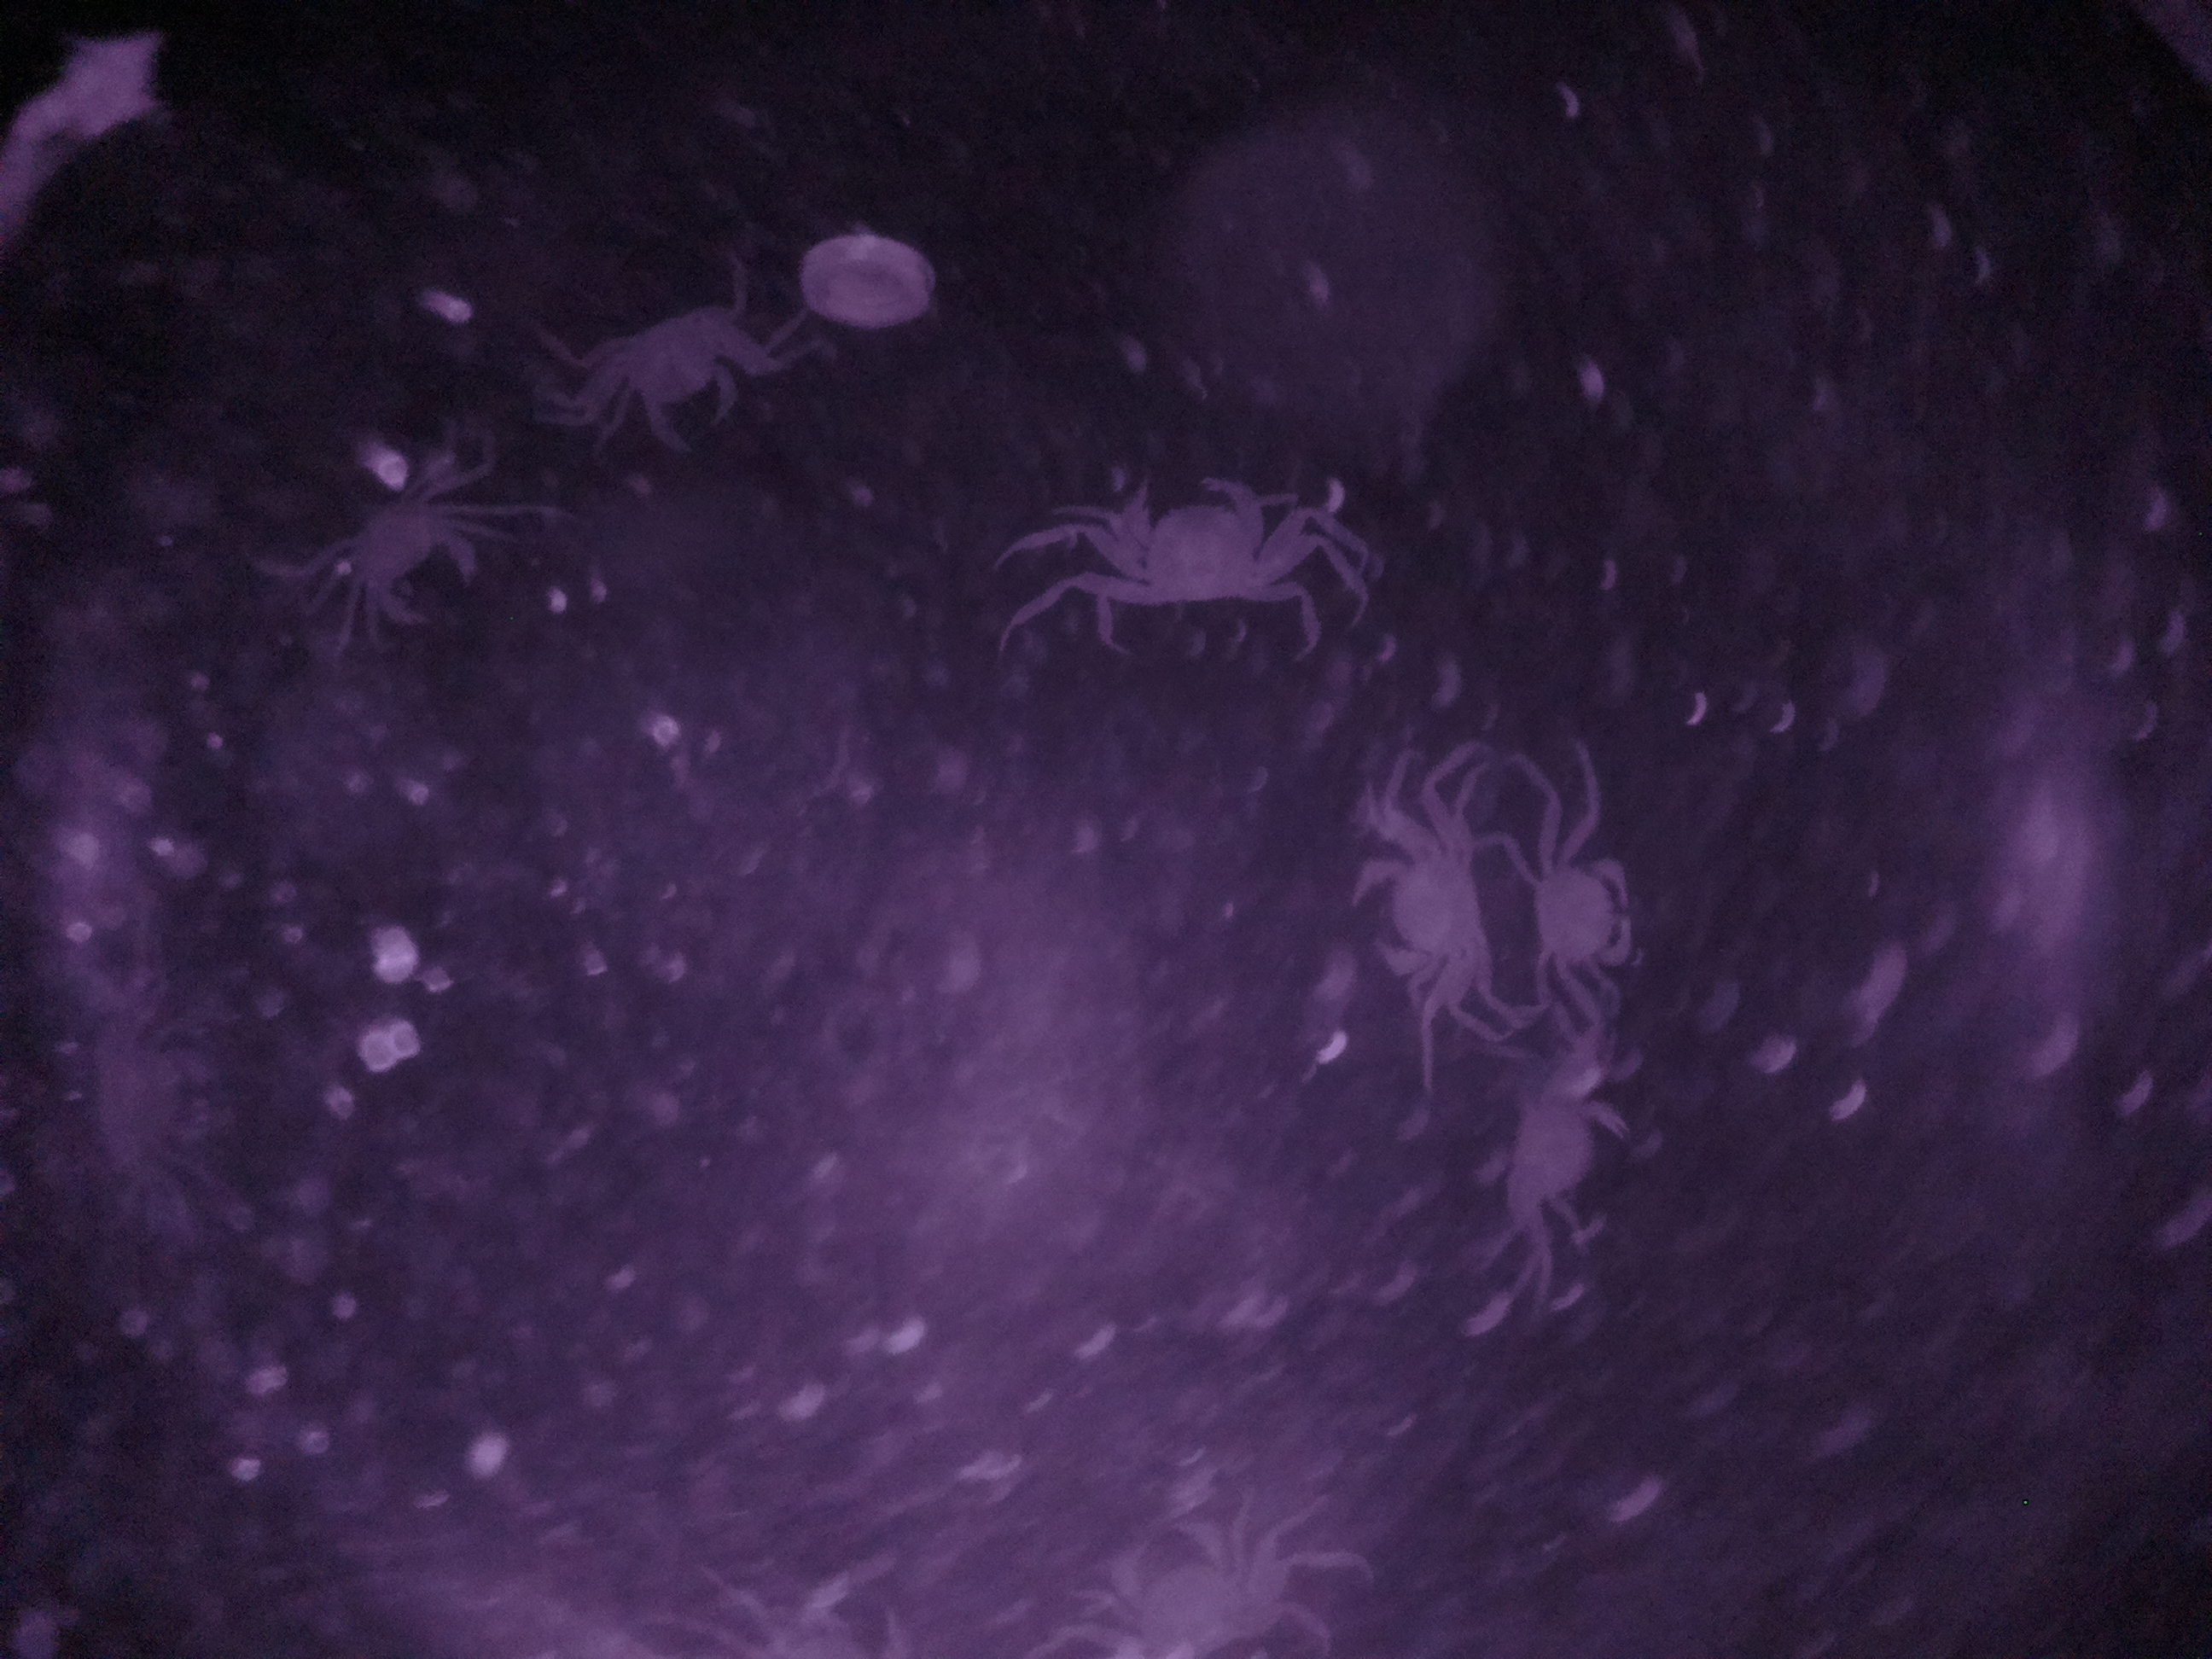Crab: (1069, 462, 1329, 613), (561, 284, 779, 460), (298, 464, 502, 650), (1339, 809, 1494, 1026), (1514, 803, 1649, 1016)
